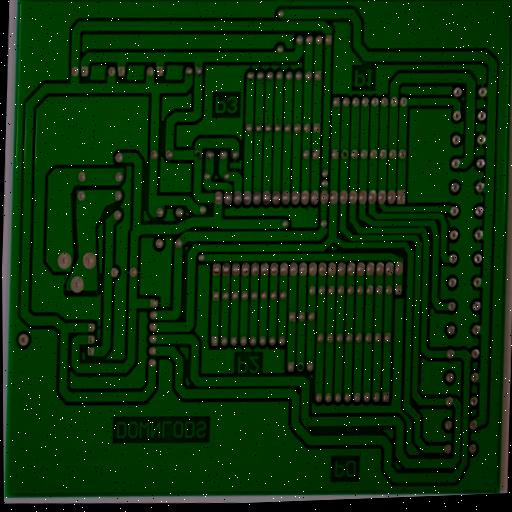missing_hole: (295, 358, 305, 373), (340, 148, 350, 160), (194, 148, 203, 160)
